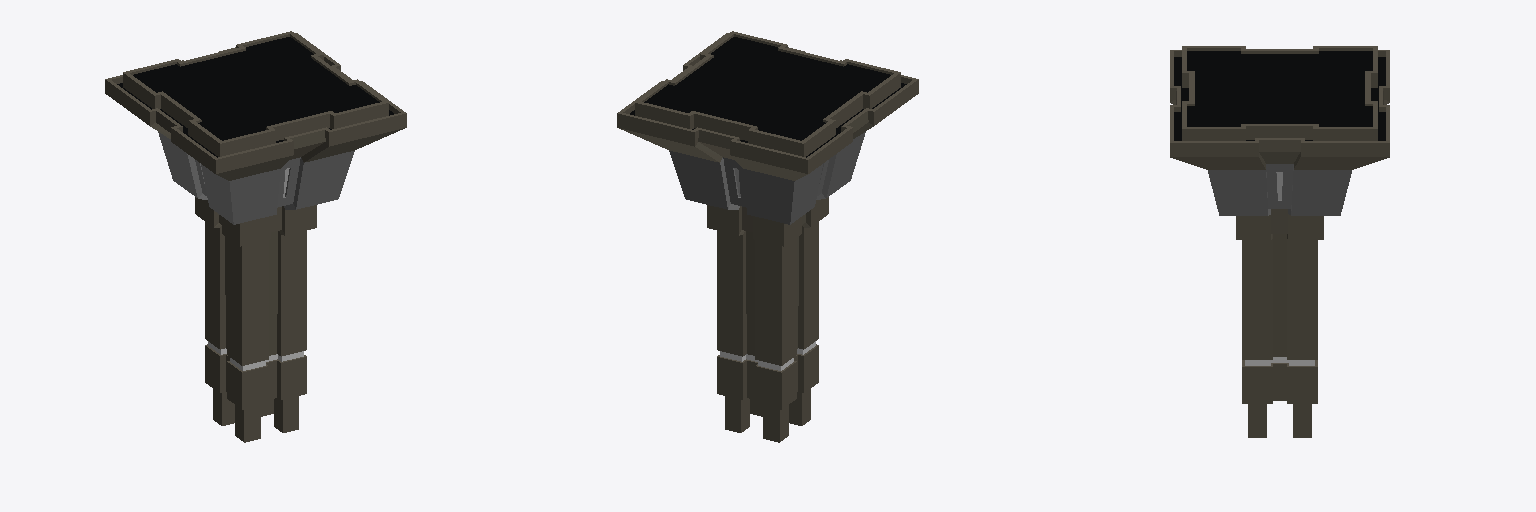
The model's file is buildingK3.obj.
The picture shows the model from 3 angles: view 1: azimuth 30°, elevation 25°; view 2: azimuth 150°, elevation 25°; view 3: azimuth 270°, elevation 25°; orthographic projection.
Visible parts, largest first — view 1: Cube.016_Cube.017; view 2: Cube.016_Cube.017; view 3: Cube.016_Cube.017.
Boxes of the visible parts, <box> form: Cube.016_Cube.017: <box>105,31,406,442</box>; Cube.016_Cube.017: <box>617,31,918,442</box>; Cube.016_Cube.017: <box>1170,46,1389,437</box>.
Size of the model in its own units: 35.02 by 58.93 by 35.02.